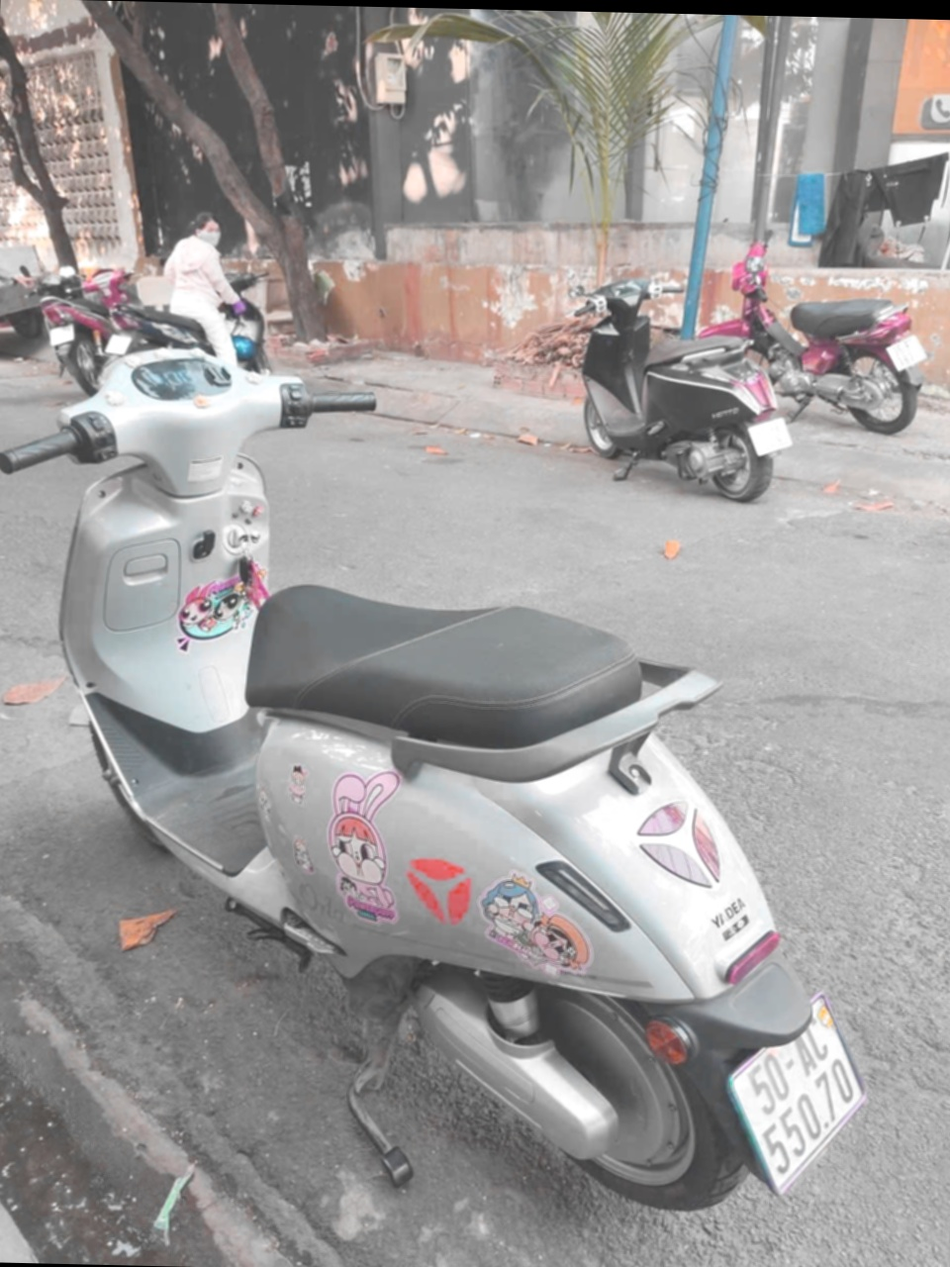Bien-so: (757, 914, 909, 1122), (721, 360, 778, 404), (851, 267, 894, 302)
